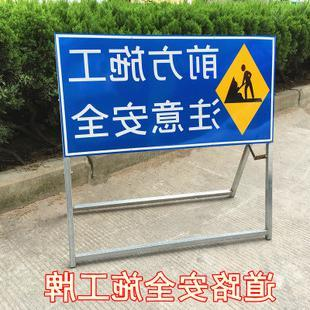sign: (60, 33, 275, 155)
